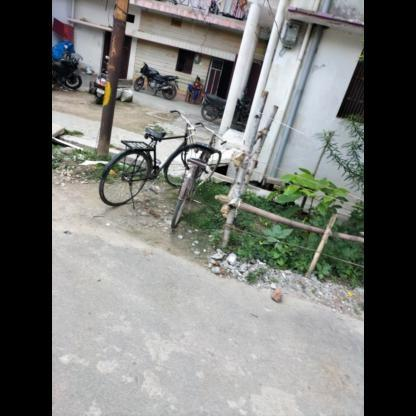Bicycle: (94, 109, 199, 215), (162, 129, 229, 241)
